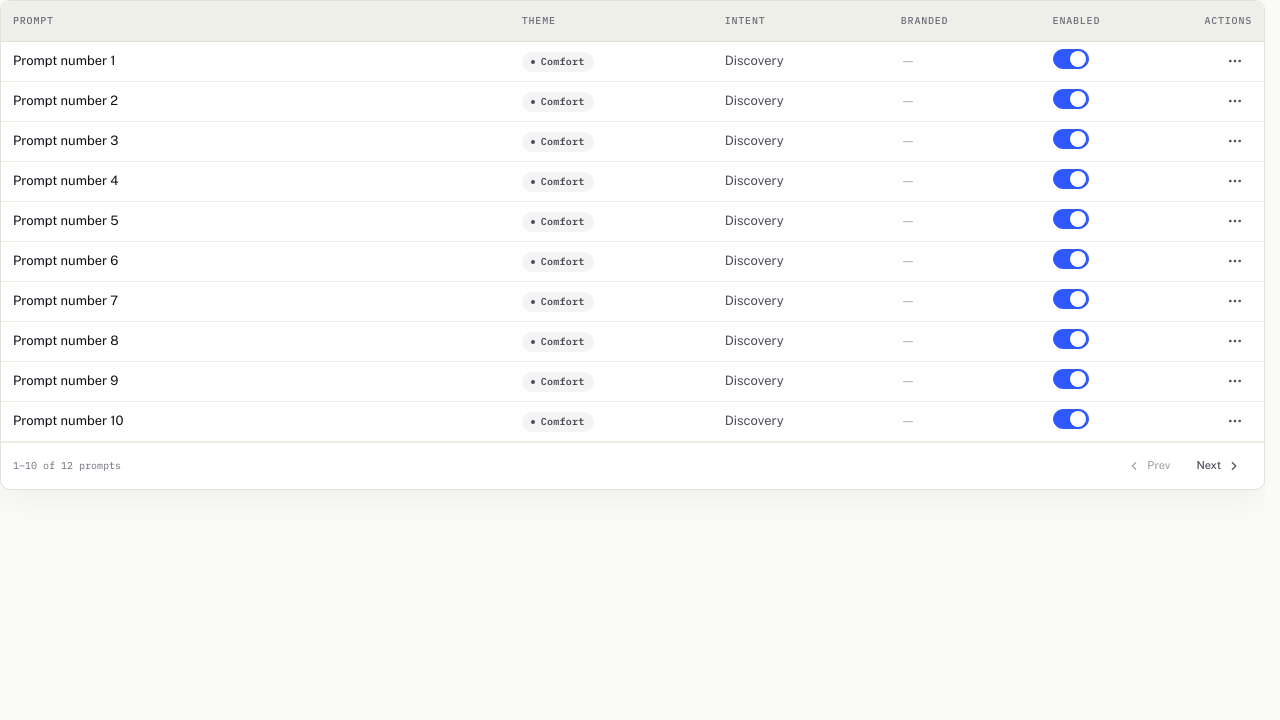
PromptTable pagination › pages through rows with the mono indicator and ghost buttons
Expected: the text "Prompt number 1" is shown, x1=13 y1=53 x2=116 y2=68
Expected: the text "Prompt number 11" is not shown
Click the button with aria-label "Next page".
click(1219, 466)  # box x1=1185 y1=450 x2=1252 y2=480
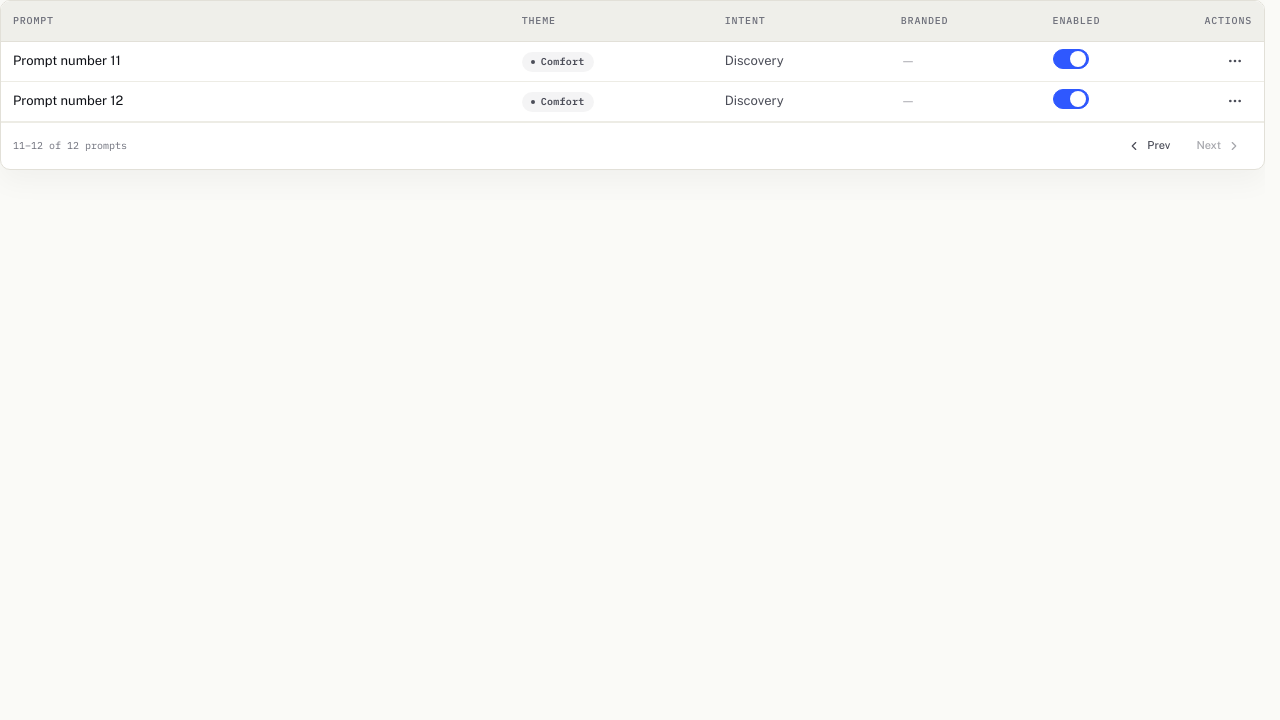
Expected: the text "Prompt number 11" is shown, x1=13 y1=53 x2=121 y2=68
Expected: the text "11–12 of 12 prompts" is shown, x1=13 y1=140 x2=127 y2=152
Expected: the button with aria-label "Next page" is disabled, x1=1185 y1=130 x2=1252 y2=160
Click the button with aria-label "Previous page".
click(1149, 146)  # box x1=1116 y1=130 x2=1181 y2=160
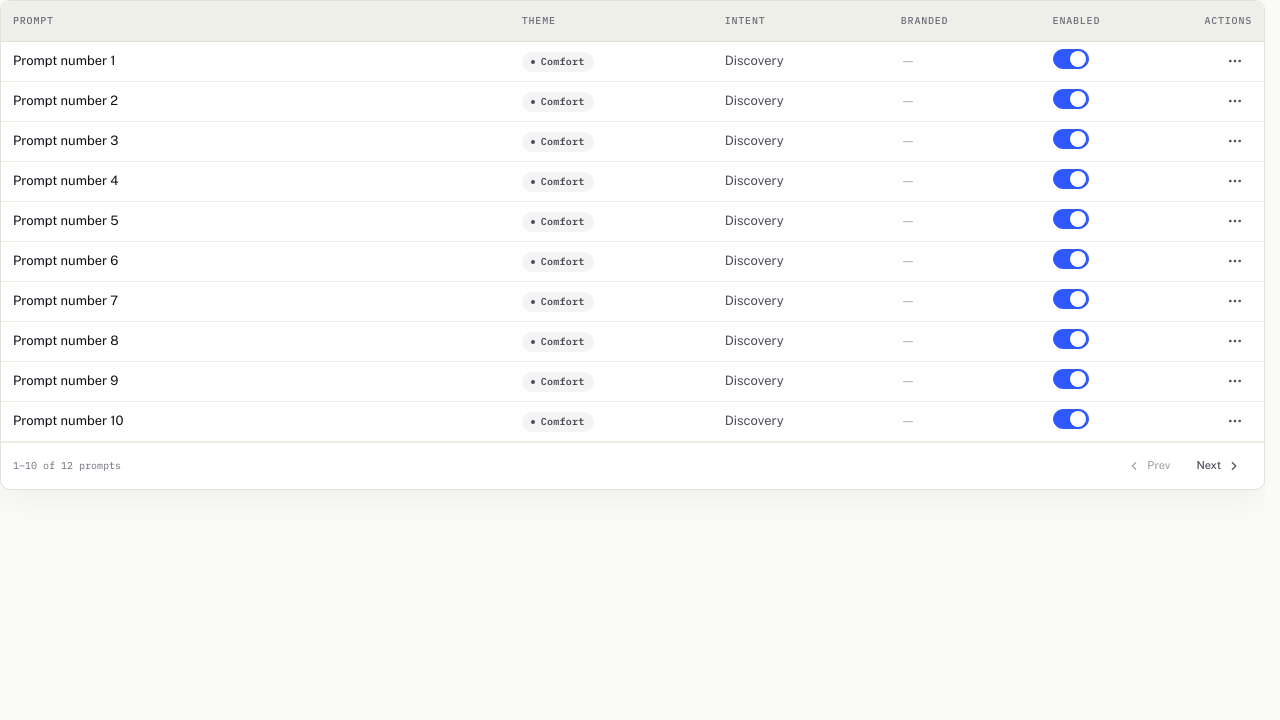
Expected: the text "Prompt number 1" is shown, x1=13 y1=53 x2=116 y2=68
Expected: the text "1–10 of 12 prompts" is shown, x1=13 y1=460 x2=121 y2=472
